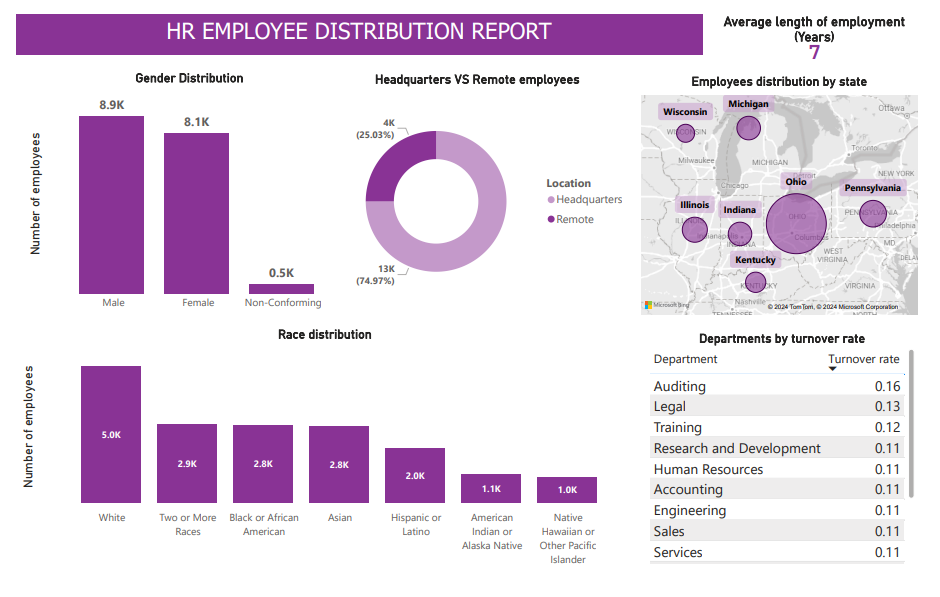

The dashboard page shown, as its layout file describes it:
{"tool":"powerbi","page":{"name":"Page 1","canvas":[1313,826],"ordinal":0},"visuals":[{"type":"textbox","box":[0,0,991,48],"z":0},{"type":"card","title":"Average length of employment (Years) ","fields":{"Values":["Sum(average_length_of_employement.AVERAGE_LENGHT_OF_EMPLOYEMENT)"]},"box":[992.3,0,320.7,70],"z":1000},{"type":"columnChart","title":"Gender Distribution","fields":{"Y":["Sum(gender.number_of_emp)"],"Category":["gender.gender"]},"box":[11.8,82.3,476.8,355.9],"z":2000},{"type":"donutChart","title":"Headquarters VS Remote employees","fields":{"Y":["Sum(location.number_of_emp)"],"Category":["location.location"]},"box":[441.5,83.9,448.3,352.6],"z":3000},{"type":"map","title":"Employees distribution by state","fields":{"Size":["Sum(location_state.number_of_emp)"],"Category":["location_state.location_state"]},"box":[898.2,87.3,408,352.6],"z":4000},{"type":"clusteredColumnChart","title":"Race distribution","fields":{"Category":["race.race"],"Y":["Sum(race.number_of_emp)"]},"box":[1.7,451.7,888.3,353.3],"z":5000},{"type":"tableEx","title":"Departments by turnover rate","fields":{"Values":["turnover_rate.department","Sum(turnover_rate.termination_rate)"]},"box":[910,458.3,391.7,340],"z":6000}]}

Visuals, with their boxes in screenshot pixels (x1, y1, x2, y2), scaled from the page's 1313x826 canvas onto the 940x597 screenshot:
textbox: box=[0, 0, 709, 35]
"Average length of employment (Years) " card: box=[710, 0, 939, 51]
"Gender Distribution" columnChart: box=[8, 59, 350, 317]
"Headquarters VS Remote employees" donutChart: box=[316, 61, 637, 315]
"Employees distribution by state" map: box=[643, 63, 935, 318]
"Race distribution" clusteredColumnChart: box=[1, 326, 637, 582]
"Departments by turnover rate" tableEx: box=[651, 331, 932, 577]
